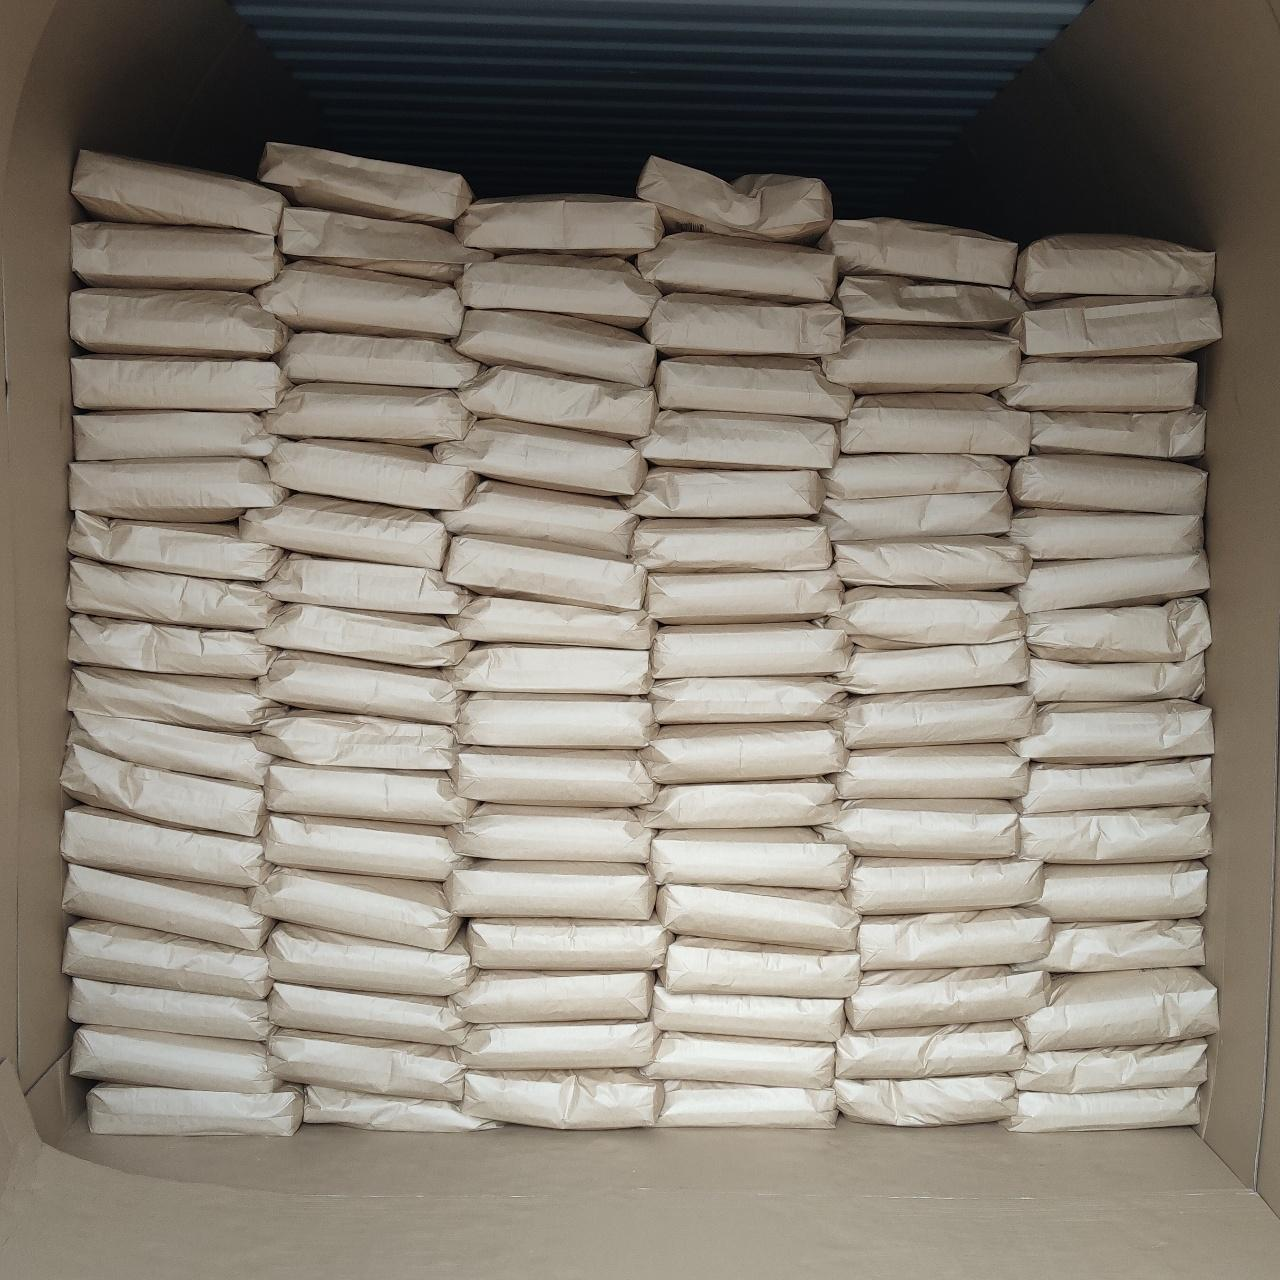sack: (62, 738, 265, 836), (73, 150, 286, 236), (259, 142, 474, 226), (62, 865, 272, 949), (252, 869, 459, 949), (1016, 968, 1218, 1051), (61, 806, 267, 887), (639, 157, 832, 243), (63, 919, 271, 999), (254, 261, 462, 339), (281, 207, 492, 282), (434, 421, 647, 495), (438, 481, 638, 559), (240, 493, 448, 568), (72, 288, 292, 359), (456, 309, 655, 386), (67, 558, 279, 629), (265, 924, 474, 996), (444, 536, 647, 610), (68, 511, 282, 580), (70, 712, 268, 785), (459, 366, 658, 440), (459, 256, 660, 328), (267, 440, 476, 509), (72, 222, 282, 290), (636, 232, 838, 302), (258, 652, 458, 722), (67, 667, 285, 731), (819, 217, 1017, 287), (72, 1026, 275, 1092), (70, 458, 287, 520), (263, 813, 461, 881), (822, 325, 1020, 393), (270, 1030, 464, 1099), (658, 884, 860, 949), (266, 760, 476, 823), (258, 604, 469, 666), (263, 382, 474, 444), (1016, 234, 1216, 300), (1007, 701, 1213, 763), (1010, 295, 1220, 356), (455, 195, 663, 256), (828, 586, 1024, 651), (847, 966, 1048, 1029), (443, 860, 655, 920), (68, 615, 272, 678), (655, 356, 853, 420), (69, 978, 271, 1040), (263, 553, 468, 614), (648, 829, 853, 890), (645, 294, 844, 356), (445, 804, 654, 863), (659, 937, 859, 998), (72, 355, 288, 411), (632, 411, 839, 470), (450, 748, 656, 806), (268, 983, 465, 1044), (843, 686, 1035, 748), (640, 724, 847, 782), (840, 394, 1032, 456), (253, 712, 455, 770), (858, 908, 1051, 969), (1008, 455, 1205, 515), (651, 622, 851, 681), (817, 799, 1017, 858), (1027, 597, 1208, 661), (1017, 552, 1207, 613), (1021, 862, 1207, 922), (462, 1071, 663, 1128), (651, 982, 844, 1041), (846, 857, 1042, 914), (449, 595, 656, 649), (454, 693, 656, 748), (87, 1084, 302, 1136), (835, 1021, 1023, 1080), (280, 332, 479, 387), (1020, 756, 1210, 813), (642, 1032, 835, 1088), (450, 971, 653, 1023), (645, 568, 843, 622), (835, 744, 1028, 799), (631, 519, 831, 572), (1000, 358, 1196, 411), (837, 638, 1028, 693), (1019, 806, 1210, 862), (444, 645, 653, 695), (832, 536, 1032, 588), (469, 918, 672, 969), (832, 275, 1026, 329), (1016, 1039, 1207, 1092), (1012, 919, 1204, 972), (622, 467, 823, 517), (819, 490, 1012, 542), (1009, 509, 1201, 560), (74, 411, 275, 459), (636, 779, 838, 828), (1022, 651, 1203, 703), (456, 1021, 659, 1068), (1002, 1085, 1199, 1132), (1030, 407, 1205, 459), (836, 1075, 1017, 1125), (649, 678, 847, 723), (302, 1085, 496, 1131), (655, 1080, 837, 1126), (822, 454, 1010, 498)
